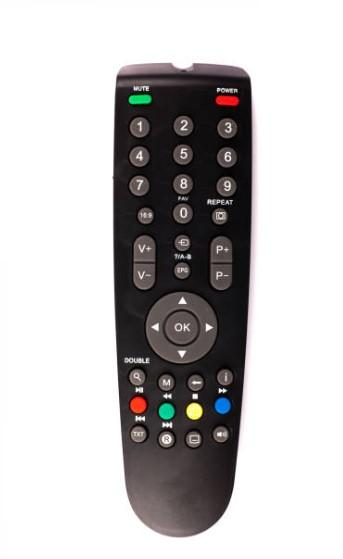Remote control: (112, 63, 255, 541)
